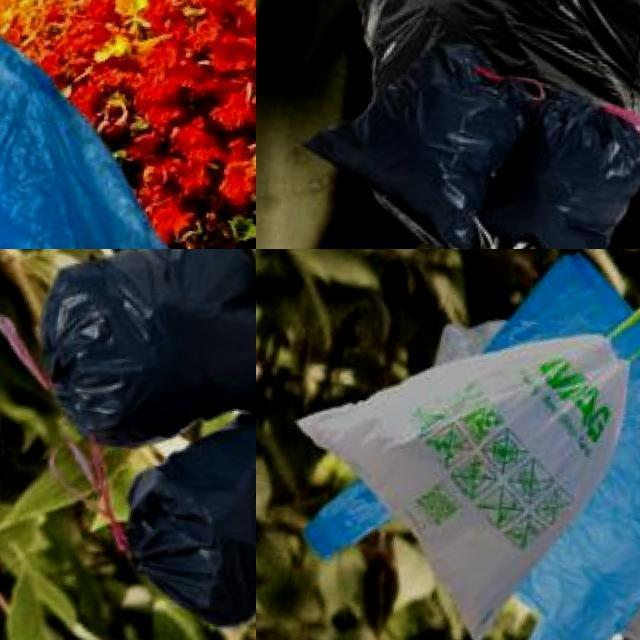waste: (280, 249, 640, 640), (275, 293, 640, 640), (279, 0, 640, 249), (0, 0, 224, 249), (19, 249, 256, 460), (303, 27, 527, 248), (125, 380, 256, 640), (482, 87, 640, 249)
